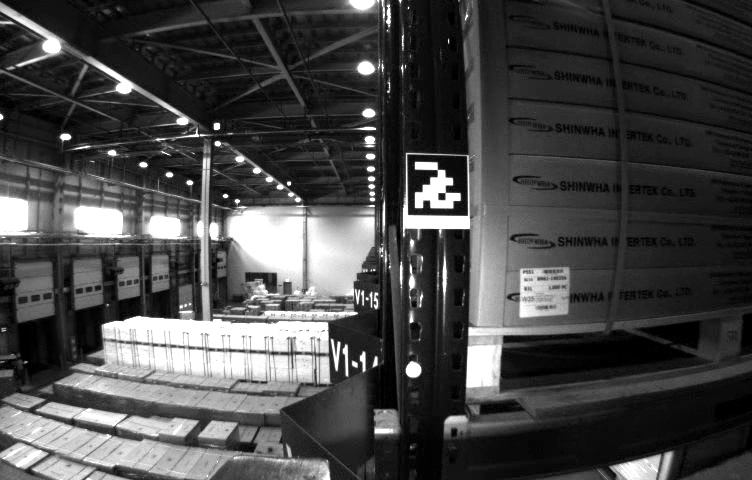True Barcode: (519, 266, 573, 317)
